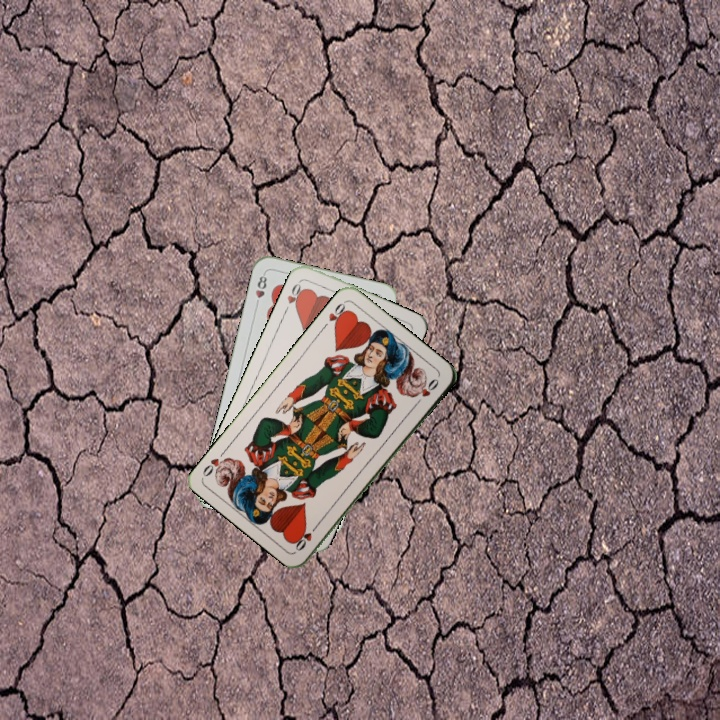H8: (251, 269, 270, 309)
HO: (318, 298, 351, 332), (280, 277, 308, 315), (291, 519, 321, 554)
